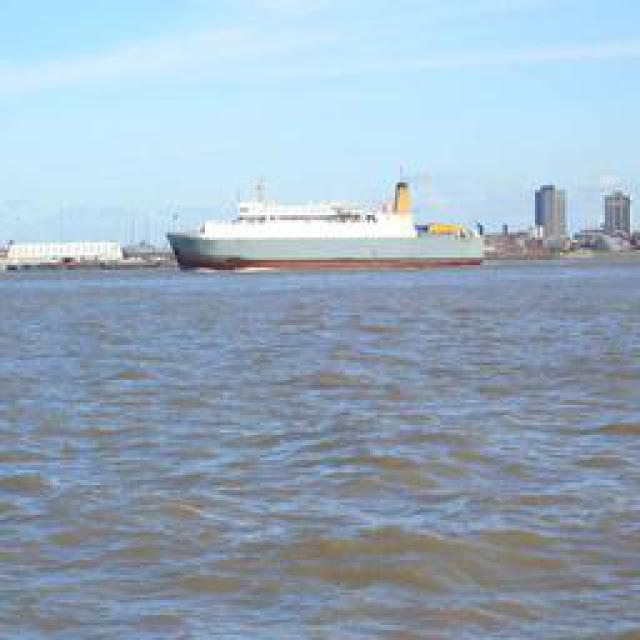Ship: (170, 181, 490, 274)
